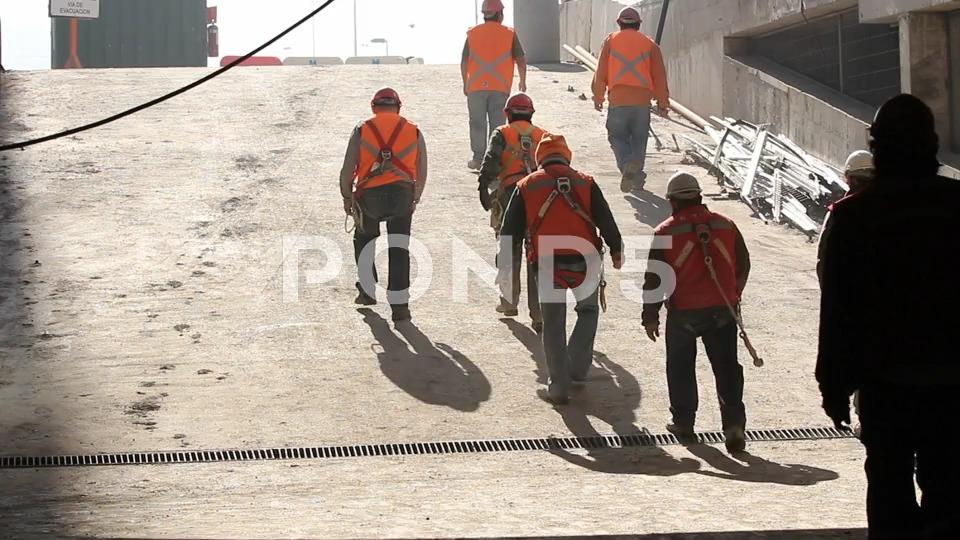hat: (850, 90, 960, 182), (812, 137, 882, 201), (347, 70, 418, 124), (602, 1, 675, 47), (488, 92, 555, 140), (654, 167, 718, 214), (454, 1, 542, 35)
no hat: (518, 131, 581, 175)
vest: (648, 207, 764, 327), (325, 112, 450, 211), (508, 161, 612, 272), (572, 27, 690, 115), (470, 122, 557, 212), (447, 27, 545, 100)
